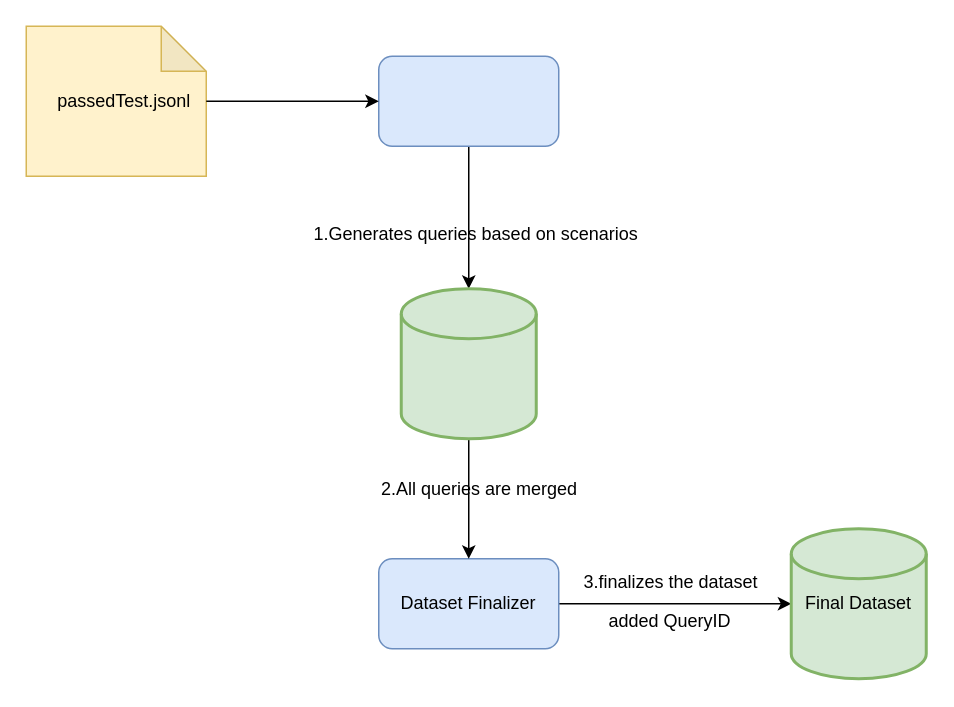
This 954x707 diagram has some shape labels left out. The shapes that lost their labels are listed below. From the top down, each one's box as (x1, y1, x2, y2) in pixels, then its label:
(377, 55, 559, 146): QueryGenerator
(399, 286, 537, 440): Scenario Queries Dataset
